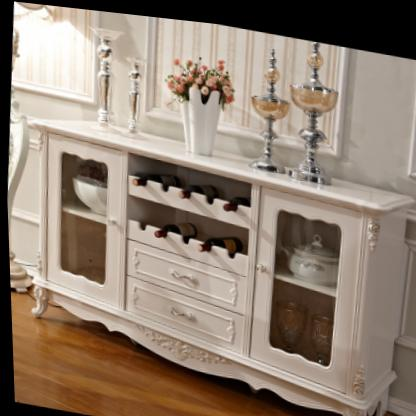Cupboard: (30, 118, 414, 416)
